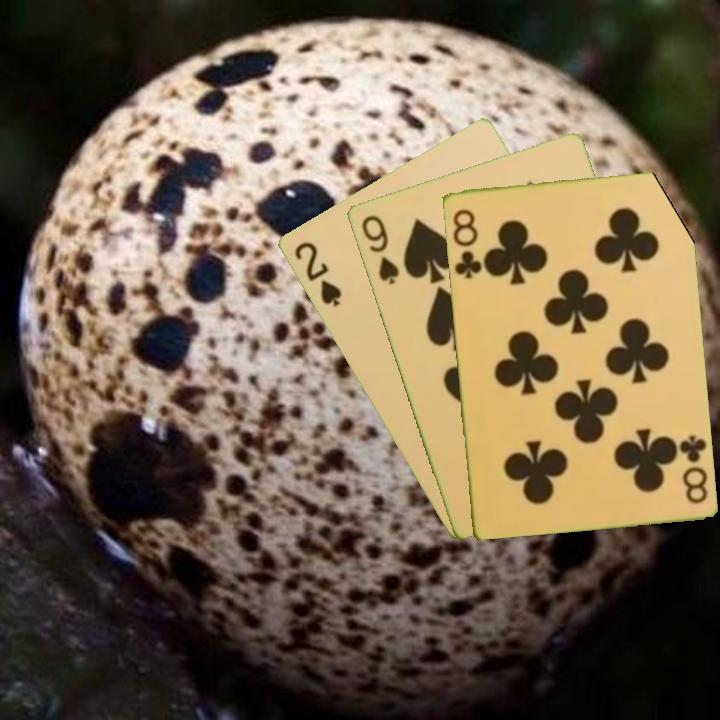2s: (290, 238, 345, 310)
8c: (449, 205, 484, 281), (675, 431, 710, 506)
9s: (357, 211, 402, 287)
